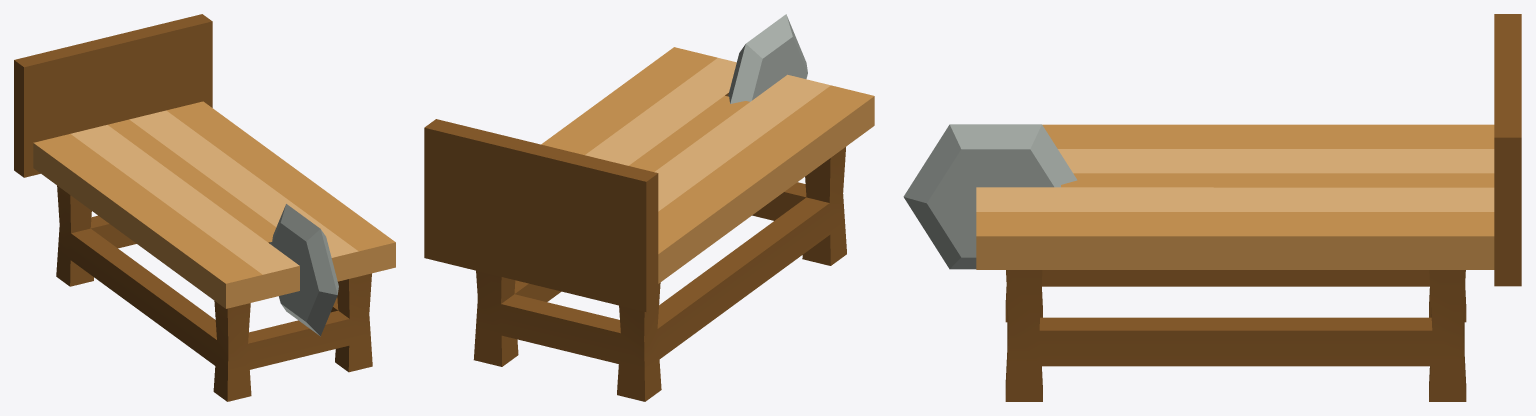
File: Machinegun.fbx
The picture shows the model from 3 angles, left to right: view 1: azimuth 30°, elevation 25°; view 2: azimuth 150°, elevation 25°; view 3: azimuth 270°, elevation 25°; orthographic projection. The views are drawn at different scales.
Parts seen in each view (by area): view 1: Machinegun; view 2: Machinegun; view 3: Machinegun.
Boxes of the visible parts, x1,y1,x2,y2 form: Machinegun: [14, 14, 395, 401]; Machinegun: [424, 14, 874, 401]; Machinegun: [903, 14, 1521, 401].
Size of the model in its own units: 117 by 123 by 248.
